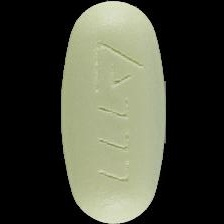55695-018: (0, 0, 224, 224)
